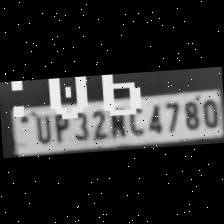0: (196, 95, 220, 128)
2: (86, 106, 108, 140)
3: (70, 107, 90, 142)
4: (140, 100, 162, 133)
7: (160, 96, 182, 132)
8: (180, 96, 200, 130)
C: (124, 103, 146, 136)
N: (104, 105, 127, 138)
P: (49, 107, 71, 141)
U: (29, 109, 52, 143)
